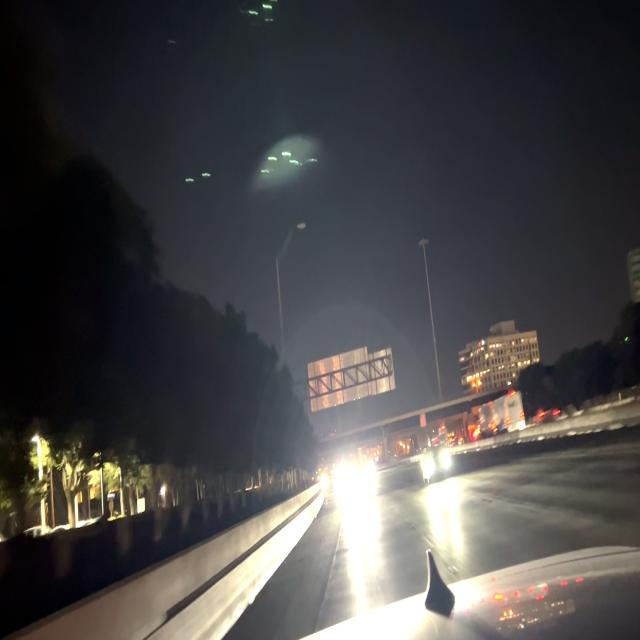back-of-sign: (307, 350, 396, 413)
